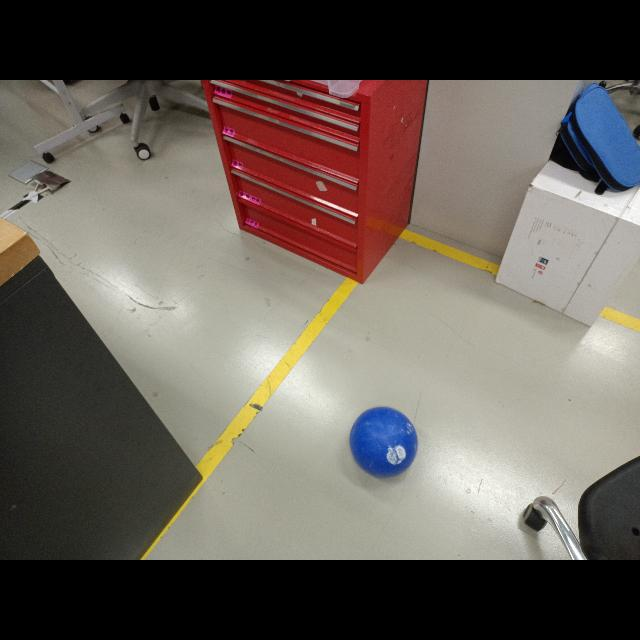B: (349, 407, 418, 478)
